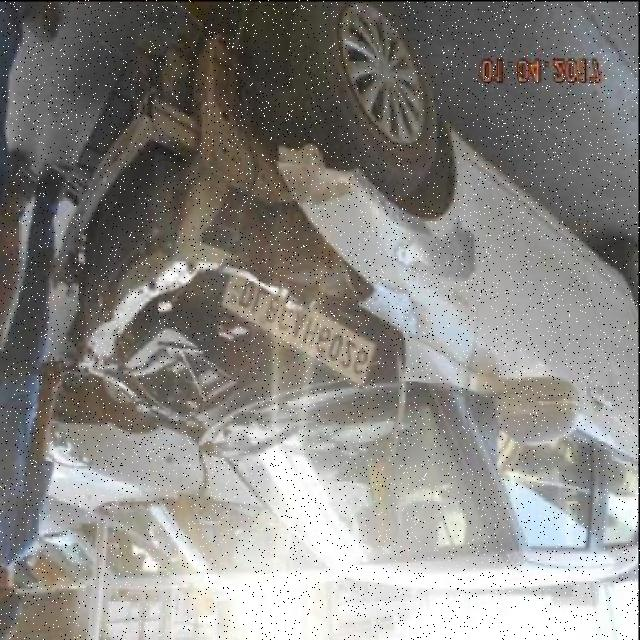damage: (38, 0, 485, 439)
